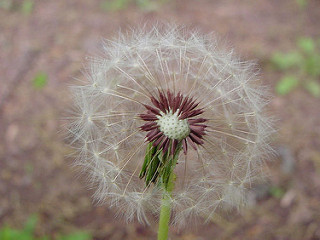dandelion: (64, 17, 286, 228)
